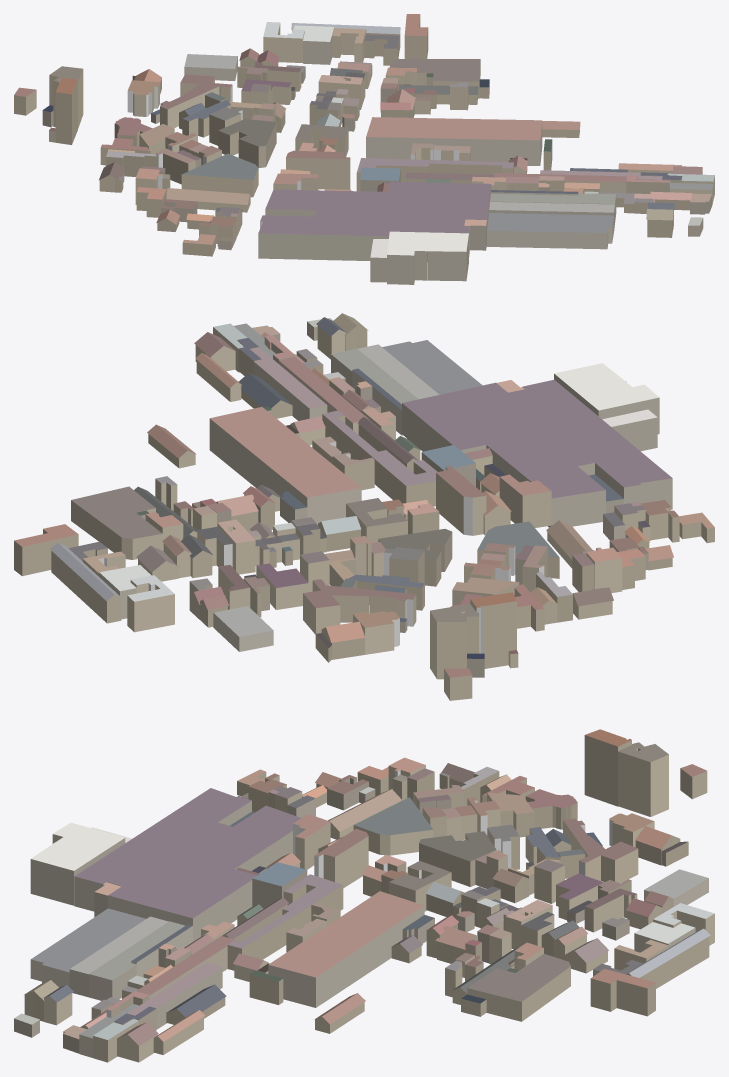
The picture shows the model from 3 angles, top to bottom: view 1: azimuth 30°, elevation 25°; view 2: azimuth 150°, elevation 25°; view 3: azimuth 270°, elevation 25°; orthographic projection. The views are drawn at different scales.
Visible parts, largest first — view 1: tuile; view 2: tuile; view 3: tuile.
Part boxes in pixels (box(x1,y1,x2,y2)): tuile: box(14, 14, 714, 284); tuile: box(14, 313, 714, 700); tuile: box(14, 729, 714, 1062).
Size of the model in its own units: 213 by 26.2 by 231.
